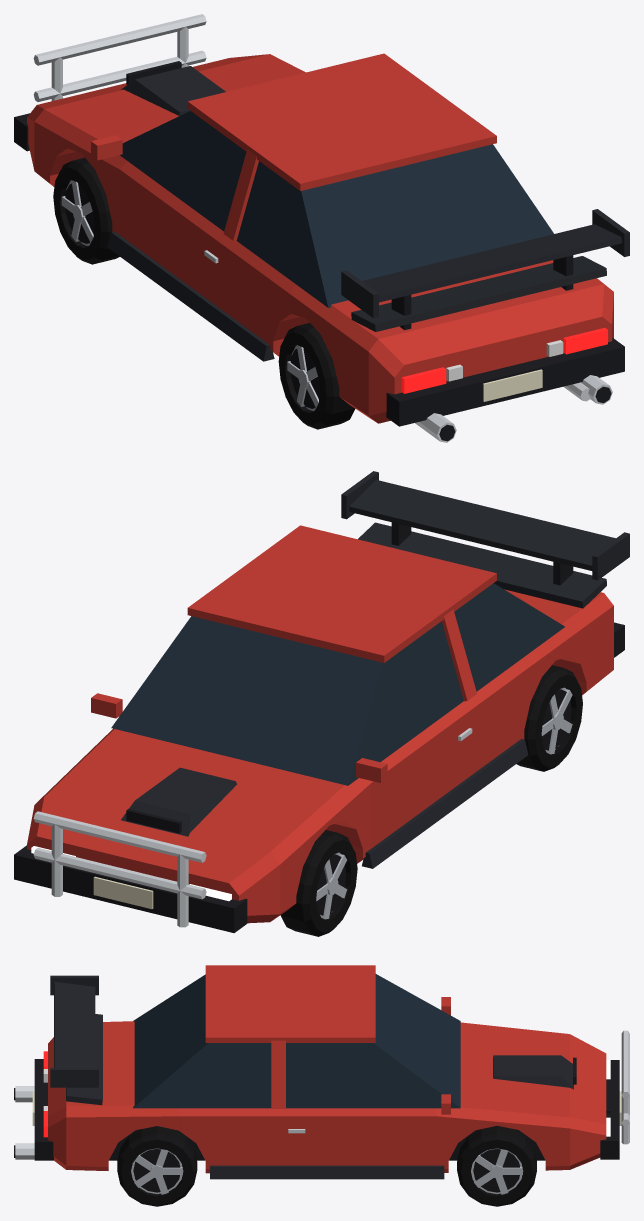
The model's file is sedan.glb.
3 views of the same model, one above another, from view 1: azimuth 30°, elevation 25°; view 2: azimuth 150°, elevation 25°; view 3: azimuth 270°, elevation 25° (orthographic). The views are drawn at different scales.
Visible parts, largest first — view 1: sedan_Top, sedan_Body, sedan_Mod_Spoiler2, sedan_Mod_Spoiler1, sedan_Wheel_RL, sedan_Wheel_FL, sedan_Mod_Bullbar, sedan_Mod_Skirts, sedan_Mod_Scoop, sedan_Mod_Exhaust; view 2: sedan_Top, sedan_Body, sedan_Mod_Spoiler2, sedan_Mod_Spoiler1, sedan_Mod_Bullbar, sedan_Wheel_FL, sedan_Wheel_RL, sedan_Mod_Scoop, sedan_Mod_Skirts; view 3: sedan_Top, sedan_Body, sedan_Wheel_RR, sedan_Wheel_FR, sedan_Mod_Spoiler2, sedan_Mod_Skirts, sedan_Mod_Scoop, sedan_Mod_Spoiler1, sedan_Mod_Bullbar, sedan_Mod_Exhaust.
Part boxes in pixels (x1,y1,x2,y2): sedan_Top: (14,53,624,426); sedan_Body: (27,54,613,423); sedan_Mod_Spoiler2: (341,209,629,330); sedan_Mod_Spoiler1: (351,256,606,331); sedan_Wheel_RL: (278,323,355,429); sedan_Wheel_FL: (53,157,119,264); sedan_Mod_Bullbar: (33,14,206,101); sedan_Mod_Skirts: (108,231,274,361); sedan_Mod_Scoop: (121,61,225,115); sedan_Mod_Exhaust: (415,375,612,442); sedan_Top: (14,525,624,932); sedan_Body: (27,589,613,923); sedan_Mod_Spoiler2: (341,471,629,585); sedan_Mod_Spoiler1: (358,522,606,608); sedan_Mod_Bullbar: (33,811,206,927); sedan_Wheel_FL: (280,830,357,936); sedan_Wheel_RL: (516,665,582,771); sedan_Mod_Scoop: (121,767,236,836); sedan_Mod_Skirts: (362,739,528,868); sedan_Top: (32,965,621,1160); sedan_Body: (48,1021,606,1173); sedan_Wheel_RR: (117,1126,197,1206); sedan_Wheel_FR: (457,1125,536,1206); sedan_Mod_Spoiler2: (50,975,98,1087); sedan_Mod_Skirts: (210,1165,444,1179); sedan_Mod_Scoop: (493,1055,576,1089); sedan_Mod_Spoiler1: (66,1014,102,1105); sedan_Mod_Bullbar: (621,1030,629,1144); sedan_Mod_Exhaust: (14,1086,34,1159).
Bounding box in the file's own units: 2.08 × 1.45 × 5.08.
